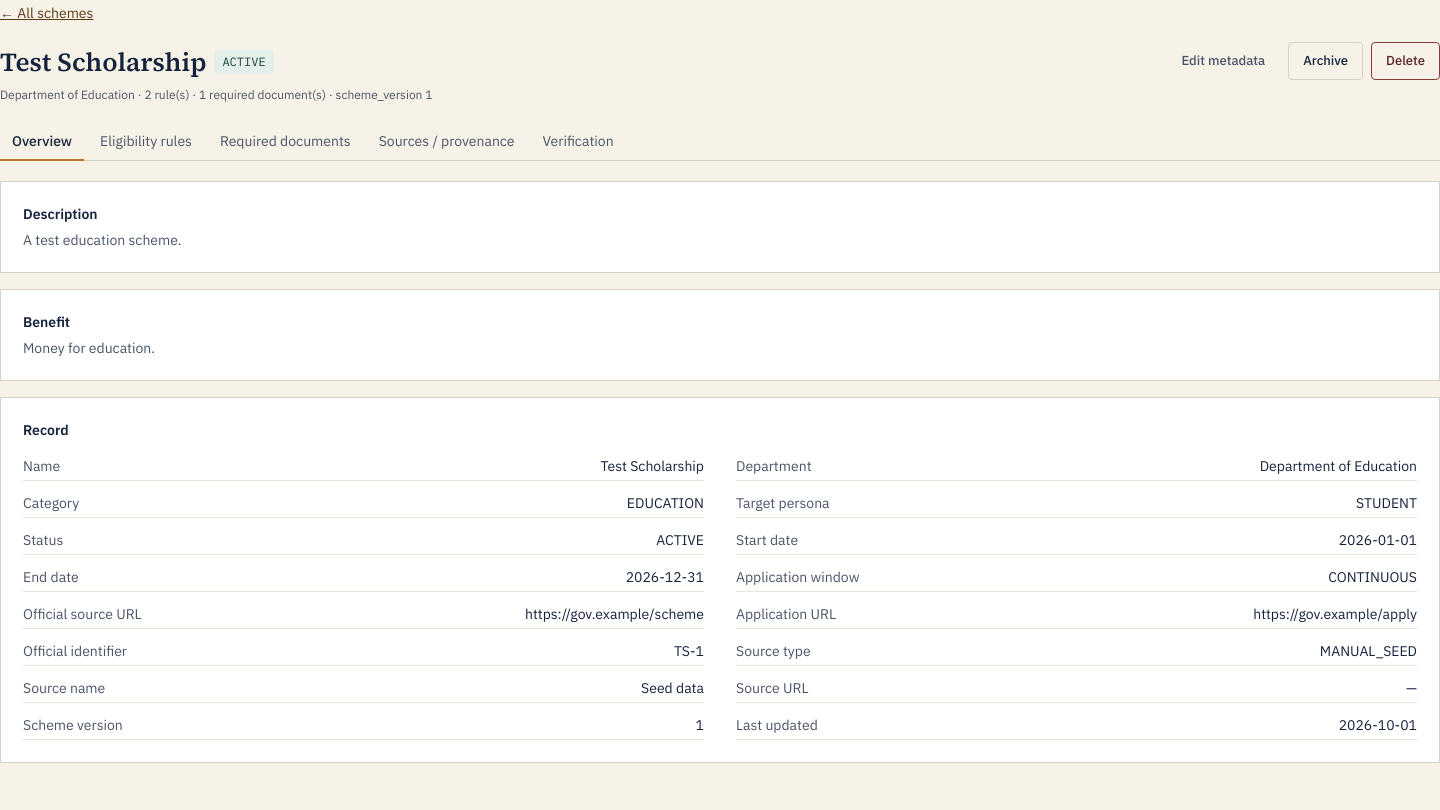
Test: overview + metadata editing › shows record fields and opens the metadata editor
Expected: the heading "Test Scholarship" is shown, [0,42,206,83]
Expected: the text "Department of Education" is shown, [1260,456,1417,476]
Click the button "Edit metadata" at (1223, 61), box [1166,42,1280,80]
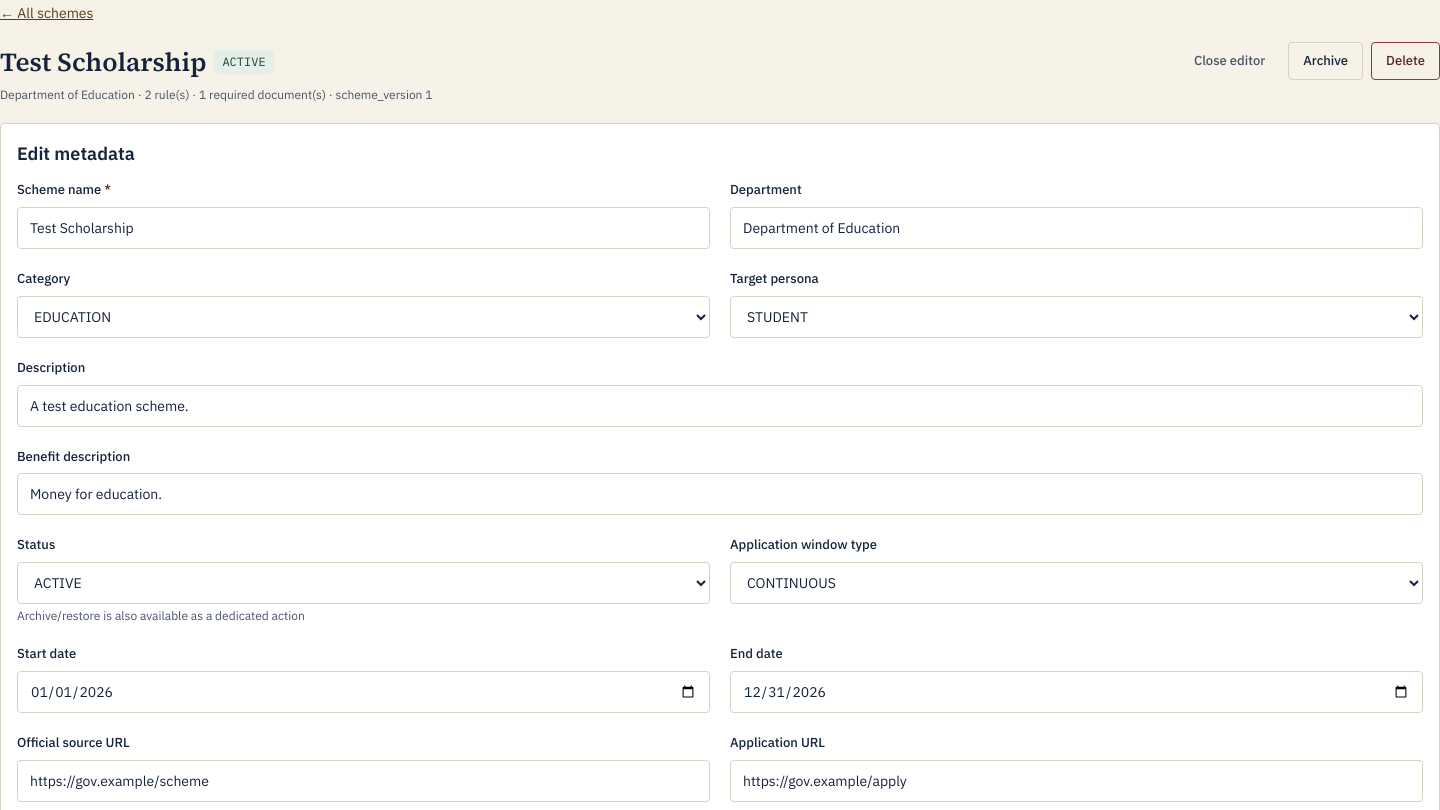
Expected: the heading "Edit metadata" is shown, [17,142,135,165]
Now the field labelled "Scheme name *" holds "Test Scholarship", box [17,207,710,249]
